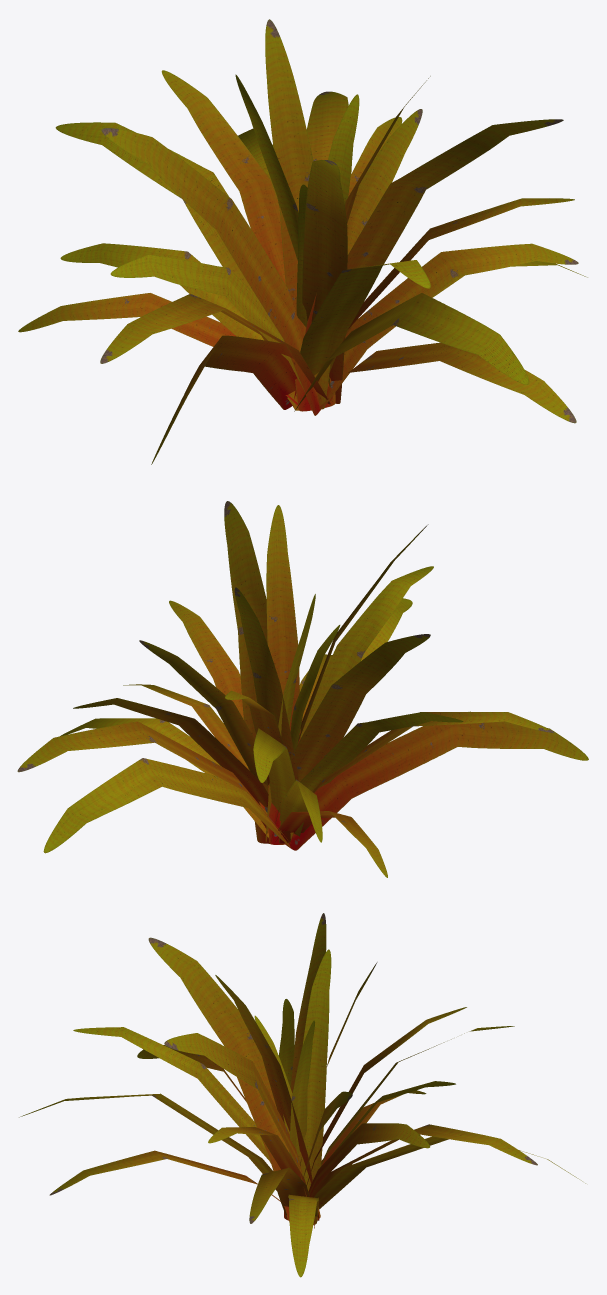
The model's file is PLant_10_2_L2.fbx.
The picture shows the model from 3 angles, top to bottom: view 1: azimuth 30°, elevation 25°; view 2: azimuth 150°, elevation 25°; view 3: azimuth 270°, elevation 25°; orthographic projection. The views are drawn at different scales.
Visible parts, largest first — view 1: polySurface6; view 2: polySurface6; view 3: polySurface6.
Part boxes in pixels (x1,y1,x2,y2): polySurface6: (18, 19, 587, 464); polySurface6: (17, 501, 588, 877); polySurface6: (19, 913, 585, 1277).
Bounding box in the file's own units: 175 × 112 × 209.
